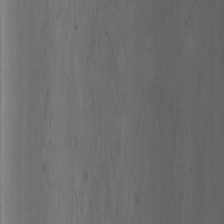silk_spot: (49, 0, 127, 206)
